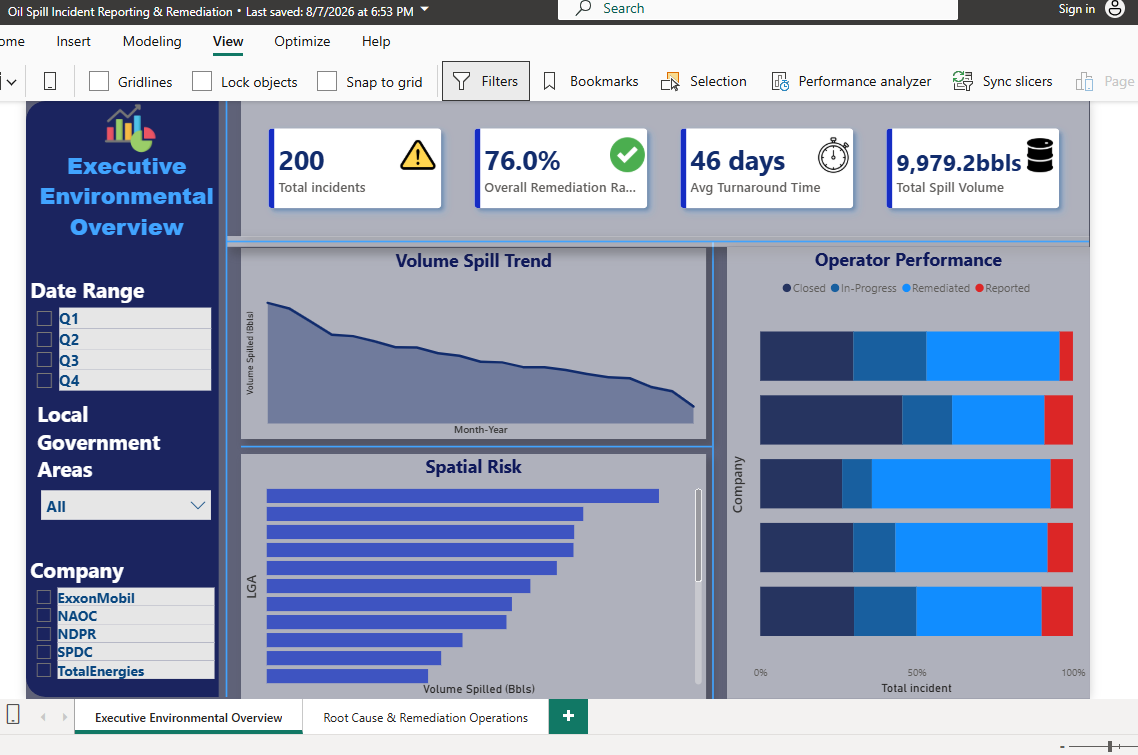

The page's visual inventory and layout, read from the dashboard file:
{"tool":"powerbi","page":{"name":"Executive Environmental Overview","canvas":[1280,720],"ordinal":0},"visuals":[{"type":"shape","box":[259,1.7,1021,156.4],"z":0},{"type":"cardVisual","fields":{"Data":["DAX.Total incident","DAX.Overall Remediation Rate %","DAX.Avg Turnaround Time","DAX.Total Spill Volume"]},"box":[258.9,0,1021,162.5],"z":1000},{"type":"shape","box":[259,176.6,560.1,543.3],"z":2000},{"type":"lineChart","title":"Volume Spill Trend","fields":{"Category":["Date.Month Year"],"Y":["Sum(Rivers_spills.Volume_Spilled_Bbls)"]},"box":[259,176.6,560.1,230.4],"z":3000},{"type":"clusteredBarChart","title":"Spatial Risk","fields":{"Category":["Rivers_spills.LGA"],"Y":["Sum(Rivers_spills.Volume_Spilled_Bbls)"]},"box":[259.1,424.9,559.7,295.4],"z":4000},{"type":"shape","box":[259.1,407,567.5,18.3],"z":5000},{"type":"shape","box":[0,0,232.4,717.6],"z":6000},{"type":"shape","box":[843.5,176,436.5,545],"z":7000},{"type":"shape","box":[819.9,169.8,14.4,550.2],"z":8000},{"type":"shape","box":[242,162.5,1037.9,13.2],"z":9000},{"type":"hundredPercentStackedBarChart","title":"Operator Performance","fields":{"Category":["Rivers_spills.Company"],"Y":["DAX.Total incident"],"Series":["Rivers_spills.Status"]},"box":[844,175.8,436.5,543.5],"z":10000},{"type":"textbox","box":[9.6,2.4,223.3,175.3],"z":11000},{"type":"slicer","title":"Local Government Areas","fields":{"Values":["Rivers_spills.LGA"]},"box":[8.4,360,224.3,177.5],"z":12000},{"type":"slicer","title":"Company ","fields":{"Values":["Rivers_spills.Company"]},"box":[0,547.8,232.4,167.4],"z":13000},{"type":"slicer","title":"Date Range","fields":{"Values":["Date.Quarter"]},"box":[0,210.7,227.6,149.3],"z":14000},{"type":"shape","box":[223.9,0,34.9,717.6],"z":15000},{"type":"image","box":[34.4,1.4,181.7,63.3],"z":15001},{"type":"image","box":[148.1,210.7,77.1,34.9],"z":15002},{"type":"image","box":[164.9,373.2,53.7,66.1],"z":15003},{"type":"image","box":[447.9,39.7,48.2,50.6],"z":15004},{"type":"image","box":[140.9,537,75.9,39.7],"z":15005},{"type":"image","box":[703.1,39.7,42.1,50.6],"z":15006},{"type":"image","box":[948.8,39.7,47,50.6],"z":15007},{"type":"image","box":[1200.4,39.7,40.9,50.6],"z":15008},{"type":"image","box":[1083.1,175.3,158.5,69.6],"z":15009},{"type":"image","box":[417.9,425.1,124.9,45.6],"z":15010}]}

Visuals, with their boxes on the page's 1280x720 design canvas (x1, y1, x2, y2). These are canvas units, not pixel positions in the 1138x755 screenshot, which may show the page scaled, cropped or inside an application window:
shape: left=259, top=2, right=1280, bottom=158
cardVisual - DAX.Total incident x DAX.Overall Remediation Rate %: left=259, top=0, right=1280, bottom=162
shape: left=259, top=177, right=819, bottom=720
"Volume Spill Trend" lineChart: left=259, top=177, right=819, bottom=407
"Spatial Risk" clusteredBarChart: left=259, top=425, right=819, bottom=720
shape: left=259, top=407, right=827, bottom=425
shape: left=0, top=0, right=232, bottom=718
shape: left=844, top=176, right=1280, bottom=721
shape: left=820, top=170, right=834, bottom=720
shape: left=242, top=162, right=1280, bottom=176
"Operator Performance" hundredPercentStackedBarChart: left=844, top=176, right=1280, bottom=719
textbox: left=10, top=2, right=233, bottom=178
"Local Government Areas" slicer: left=8, top=360, right=233, bottom=538
"Company " slicer: left=0, top=548, right=232, bottom=715
"Date Range" slicer: left=0, top=211, right=228, bottom=360
shape: left=224, top=0, right=259, bottom=718
image: left=34, top=1, right=216, bottom=65
image: left=148, top=211, right=225, bottom=246
image: left=165, top=373, right=219, bottom=439
image: left=448, top=40, right=496, bottom=90
image: left=141, top=537, right=217, bottom=577
image: left=703, top=40, right=745, bottom=90
image: left=949, top=40, right=996, bottom=90
image: left=1200, top=40, right=1241, bottom=90
image: left=1083, top=175, right=1242, bottom=245
image: left=418, top=425, right=543, bottom=471
